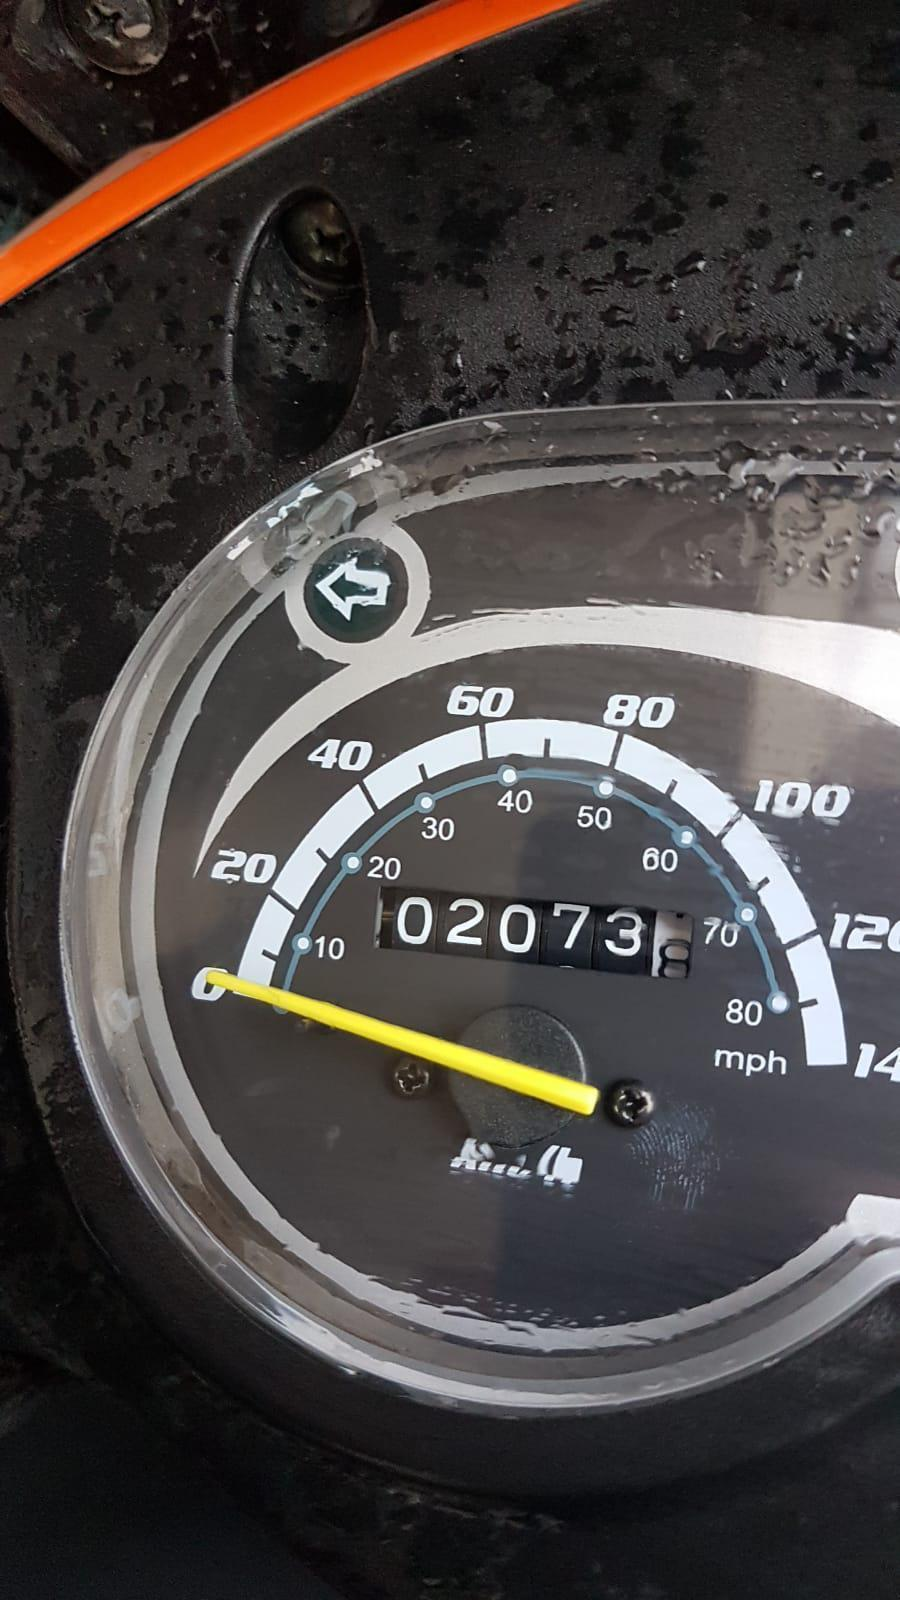0: (499, 899, 538, 959), (395, 891, 434, 947)
2: (445, 895, 485, 956)
3: (603, 905, 644, 962)
7: (549, 897, 592, 952)
8: (654, 929, 697, 985)
odometer: (375, 884, 705, 990)
